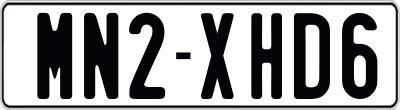2: (127, 11, 167, 102)
6: (339, 10, 377, 98)
D: (291, 11, 332, 97)
H: (250, 13, 287, 99)
M: (34, 10, 70, 102)
N: (83, 13, 117, 101)
X: (198, 12, 231, 101)
